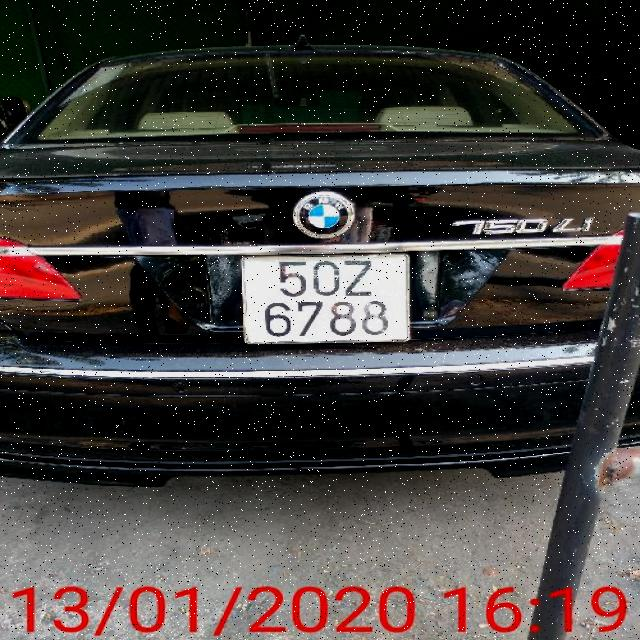0: (312, 260, 341, 298)
5: (276, 259, 308, 298)
6: (262, 301, 292, 338)
7: (296, 301, 324, 338)
8: (327, 300, 357, 338), (359, 299, 389, 337)
Z: (342, 259, 373, 297)
